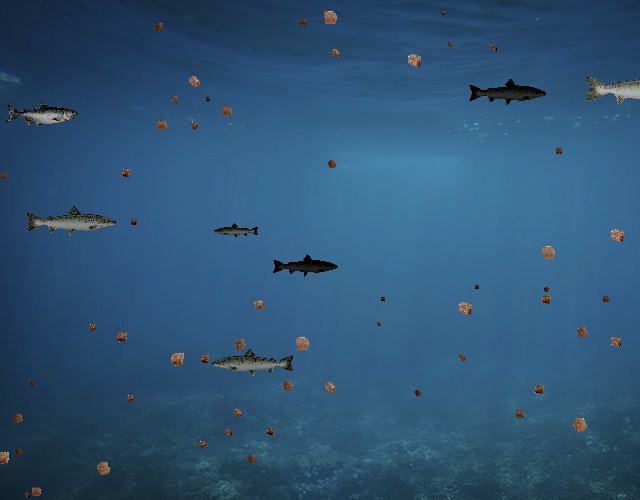Fish: (24, 205, 118, 239), (210, 347, 296, 378), (467, 77, 548, 106), (5, 101, 78, 128), (272, 253, 340, 278), (213, 222, 260, 239)
Pellet: (163, 346, 191, 374), (182, 69, 207, 94), (318, 376, 342, 400), (228, 332, 252, 356), (247, 293, 270, 316), (8, 408, 29, 429), (167, 91, 184, 108), (84, 319, 100, 335), (486, 41, 501, 55), (540, 283, 553, 296), (21, 489, 33, 500)
